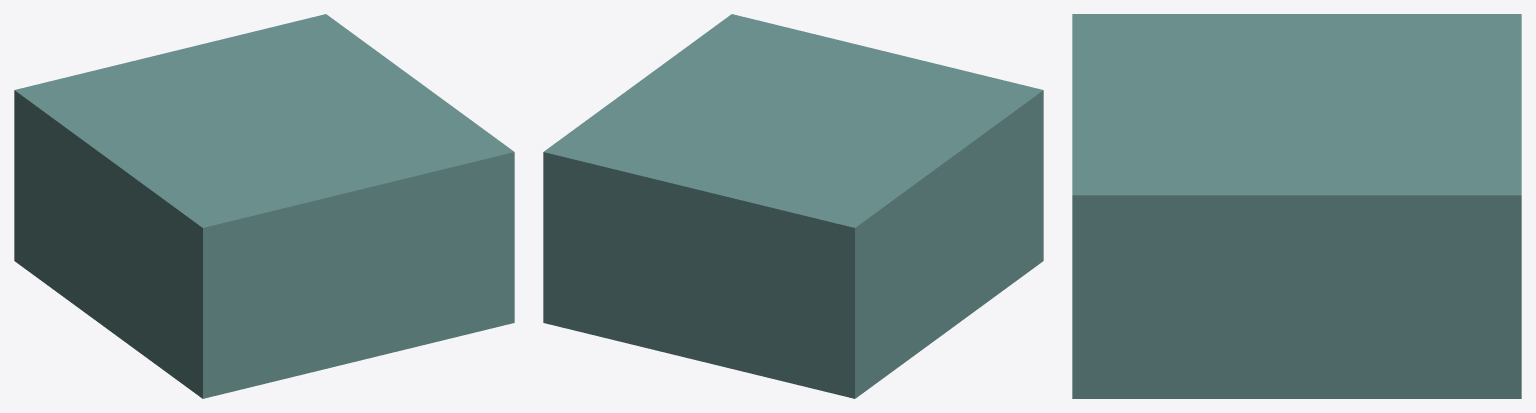
Rendered from stairModel.fbx.
3 views of the same model, side by side, from view 1: azimuth 30°, elevation 25°; view 2: azimuth 150°, elevation 25°; view 3: azimuth 270°, elevation 25° (orthographic). The views are drawn at different scales.
Parts seen in each view (by area): view 1: pCube11; view 2: pCube11; view 3: pCube11.
Part boxes in pixels (x1,y1,x2,y2): pCube11: (14, 14, 514, 398); pCube11: (543, 14, 1043, 398); pCube11: (1072, 14, 1521, 398).
Size of the model in its own units: 577 by 302 by 605.
Materials: 1 (1 with a texture image).
